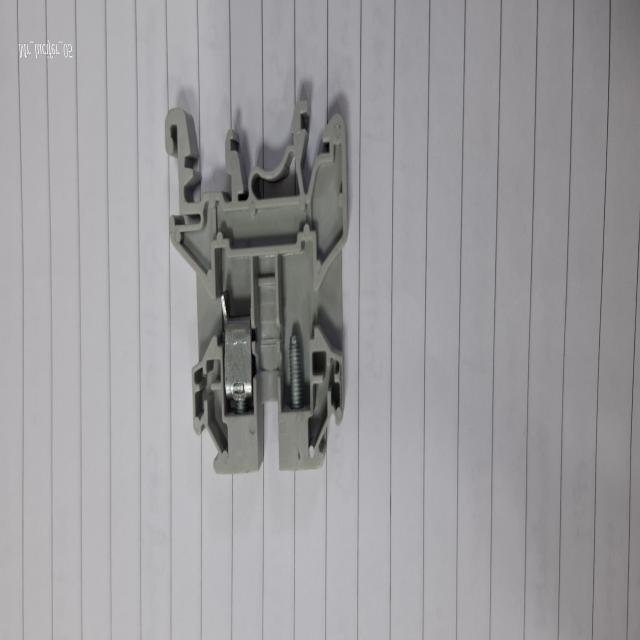Reject: (164, 86, 353, 486)
